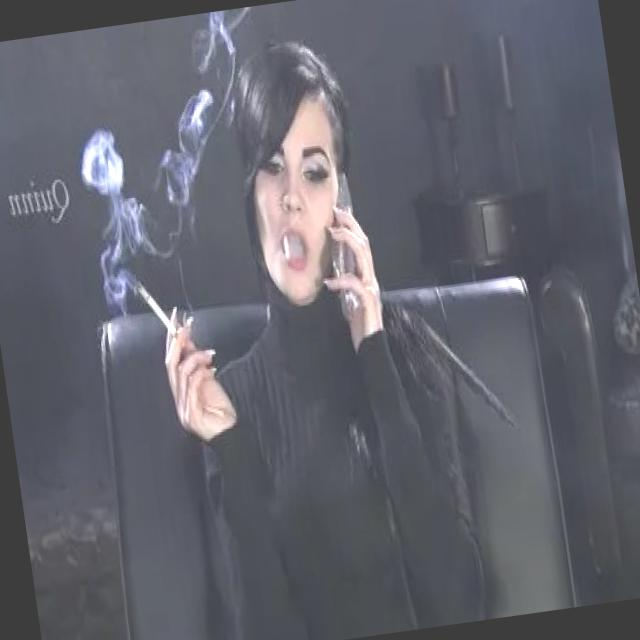smoke: (129, 274, 180, 343)
